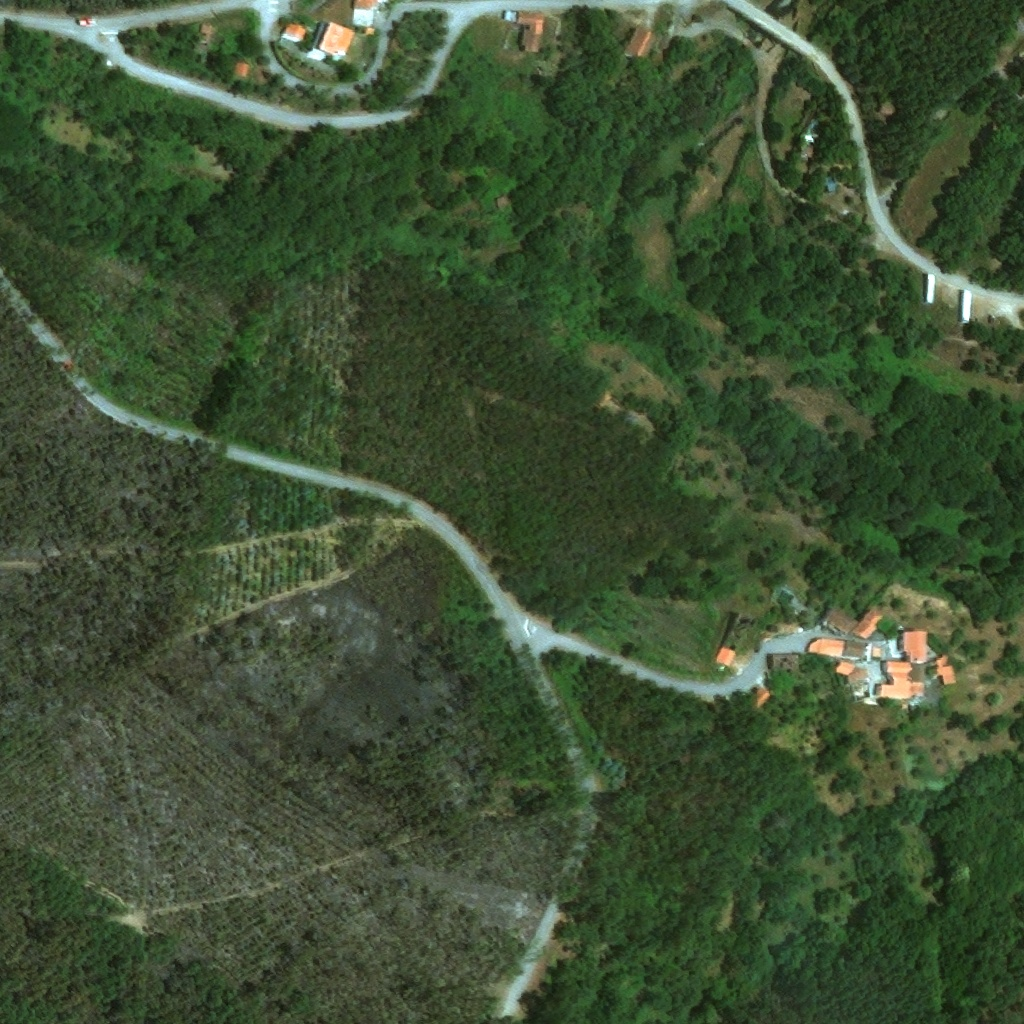0 no-damage: (874, 663, 925, 706), (820, 606, 882, 641), (308, 21, 356, 62), (503, 11, 545, 54), (351, 0, 388, 27), (898, 631, 926, 664), (624, 27, 652, 57), (834, 662, 868, 686), (804, 639, 844, 659), (842, 642, 881, 662), (933, 655, 955, 686), (768, 654, 799, 676), (799, 118, 824, 143), (281, 23, 308, 46), (193, 24, 212, 56), (748, 688, 770, 710), (233, 62, 253, 79), (493, 195, 511, 210), (800, 145, 815, 160), (879, 103, 894, 117), (826, 175, 837, 192)
4 un-classified: (1013, 41, 1023, 62)
